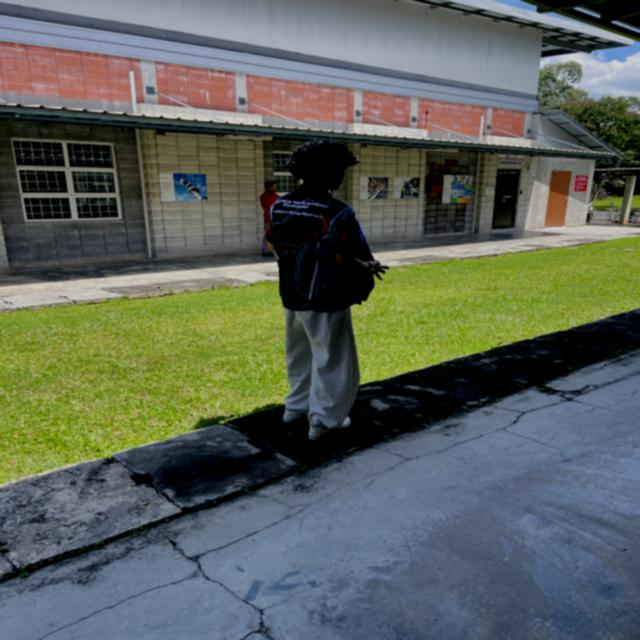person_without_labcoat: (268, 140, 388, 441)
